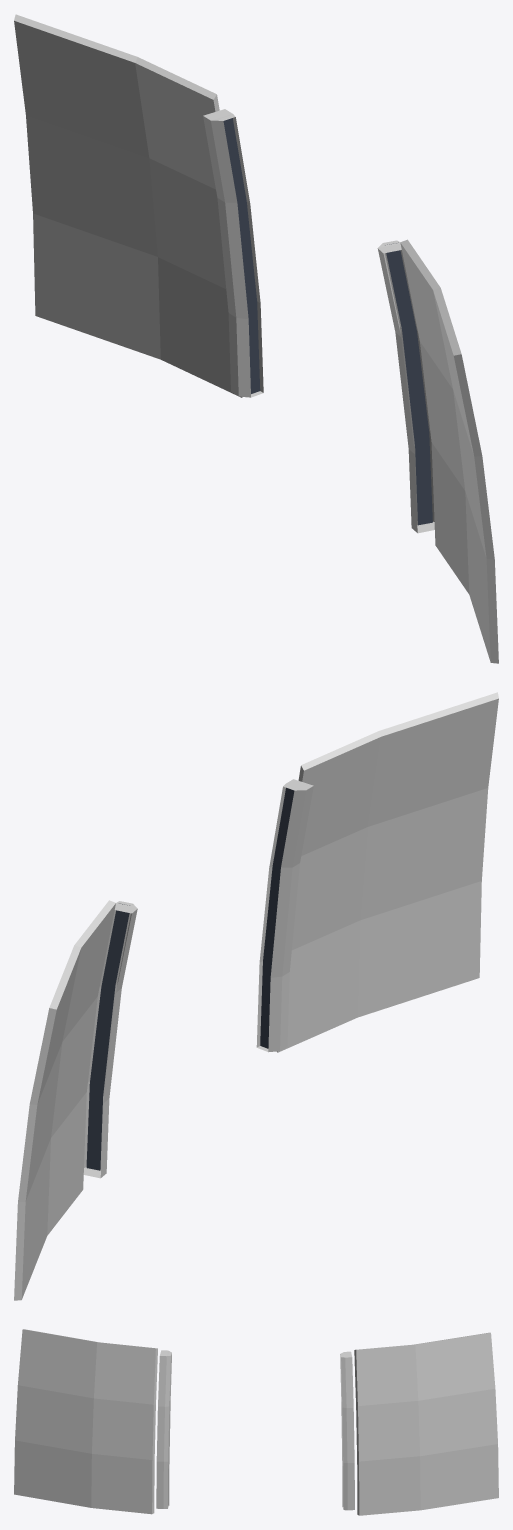
The model's file is Dome_HQ_Doorsystem_231006.fbx.
3 views of the same model, one above another, from view 1: azimuth 30°, elevation 25°; view 2: azimuth 150°, elevation 25°; view 3: azimuth 270°, elevation 25° (orthographic). The views are drawn at different scales.
Parts seen in each view (by area): view 1: Dome-Door-Right, Door-Frame, Dome-Door-left; view 2: Dome-Door-left, Dome-Door-Right, Door-Frame; view 3: Dome-Door-Right, Dome-Door-left, Door-Frame.
Part boxes in pixels (x1=…): Dome-Door-Right: x1=14, y1=14, x2=242, y2=397; Door-Frame: x1=203, y1=109, x2=434, y2=533; Dome-Door-left: x1=400, y1=239, x2=498, y2=663; Dome-Door-left: x1=277, y1=692, x2=498, y2=1052; Dome-Door-Right: x1=14, y1=900, x2=115, y2=1300; Door-Frame: x1=83, y1=779, x2=313, y2=1178; Dome-Door-Right: x1=354, y1=1332, x2=498, y2=1515; Dome-Door-left: x1=14, y1=1329, x2=157, y2=1514; Door-Frame: x1=156, y1=1350, x2=354, y2=1510.
Bounding box in the file's own units: 119 × 288 × 798.
